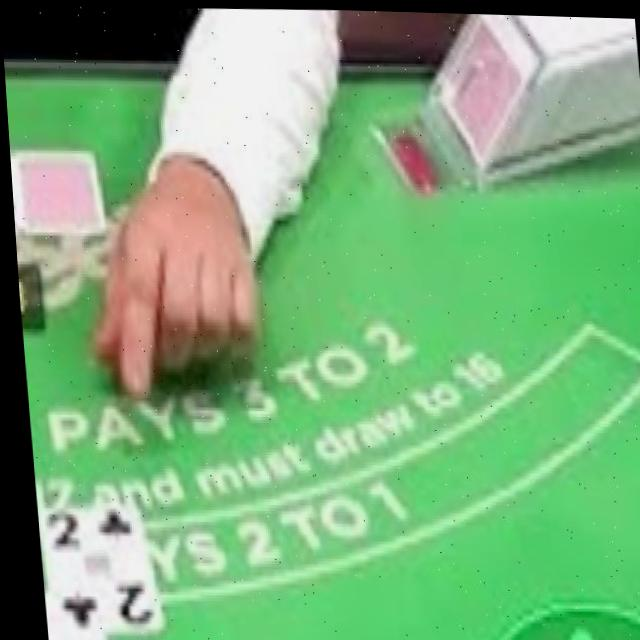Card-2: (34, 503, 154, 638)
